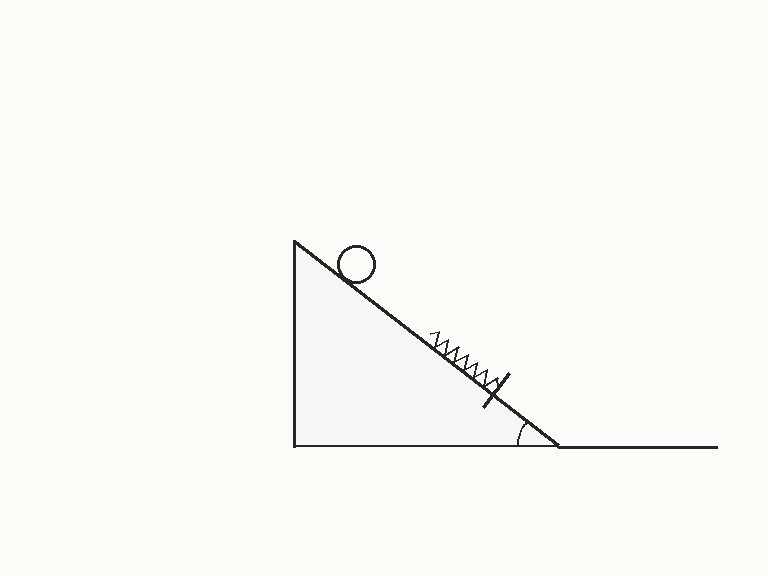ball: (335, 243, 377, 285)
ramp: (293, 238, 560, 448)
spring: (427, 330, 500, 389)
